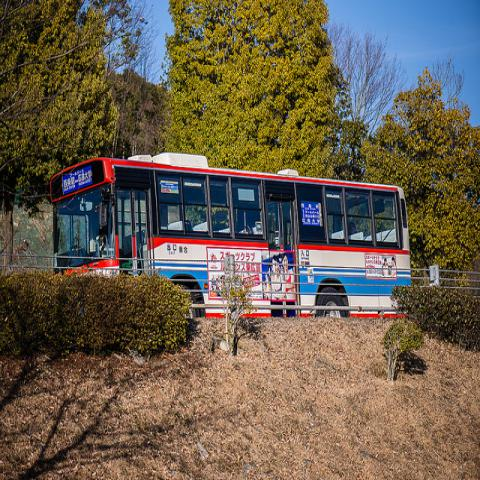bus: (49, 154, 413, 322)
